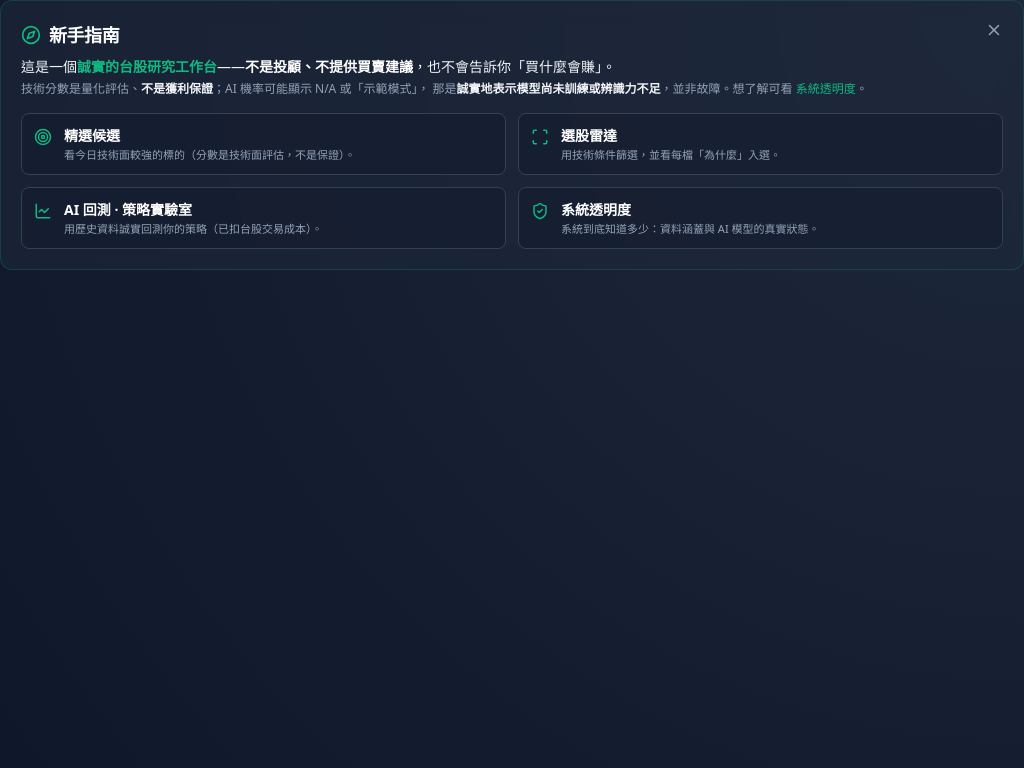
GettingStarted — novice entry › dismiss hides the panel and remembers the choice
Click the button named "關閉新手導引".
click(994, 30)  # box [985,21,1003,39]
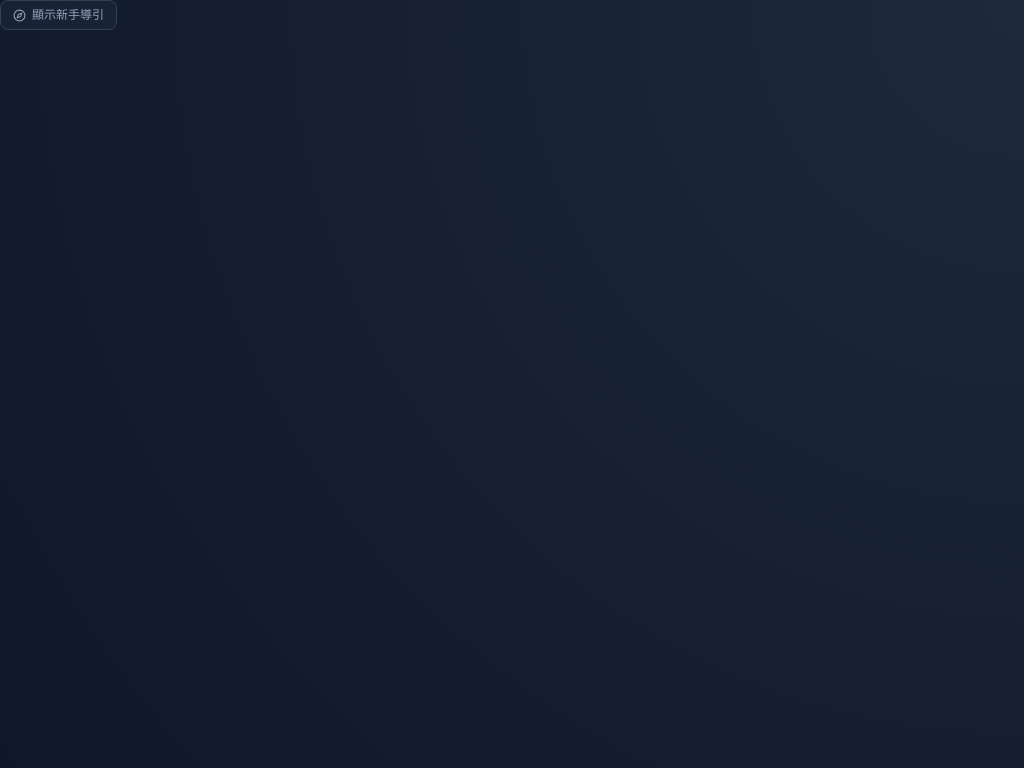
Expected: the text "不是投顧" is gone
Expected: the button "顯示新手導引" is shown, [0,0,117,30]
